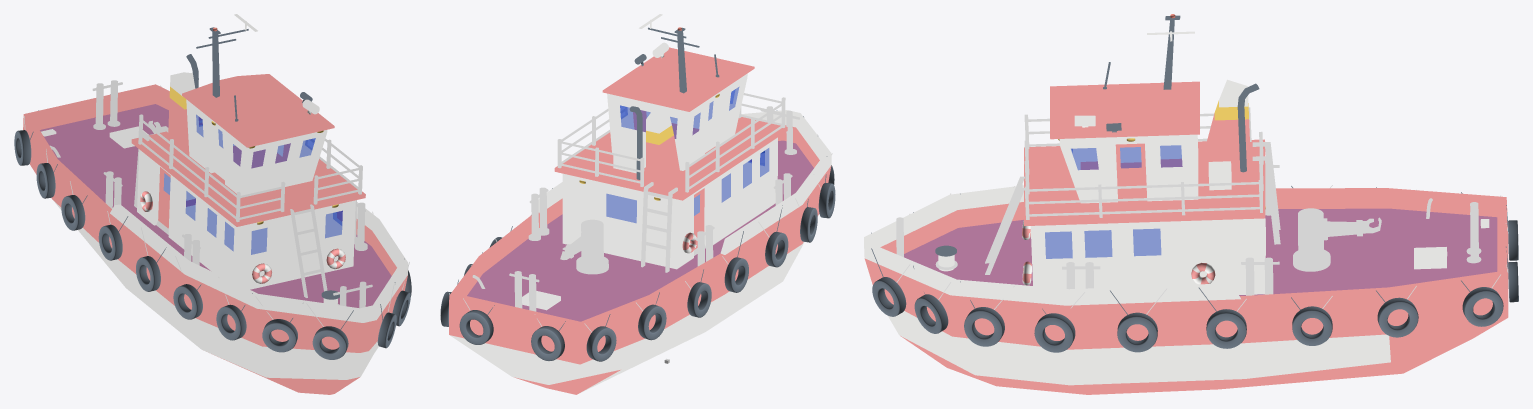
File: LowPolyBoat.fbx
The picture shows the model from 3 angles, left to right: view 1: azimuth 30°, elevation 25°; view 2: azimuth 150°, elevation 25°; view 3: azimuth 270°, elevation 25°; orthographic projection. The views are drawn at different scales.
Parts seen in each view (by area): view 1: Body, Floor:1, Floor:2, Roof, Cube.2_2, Pipe:Big, Tube_9, Tube_10, Tube_11, Tube_12, Tube_13, Tube_16 (+9 smaller); view 2: Body, Floor:1, Floor:2, Roof, Cube.2_2, Pipe:Big, Cylinder.5, Tube_19, Tube_17, Tube_18, Tube_15, Tube_16 (+11 smaller); view 3: Body, Floor:1, Cube.2_2, Floor:2, Roof, Pipe:Big, Cylinder.5, Tube_4, Tube_3, Tube_8, Tube_6, Tube_2 (+11 smaller).
Part boxes in pixels (left/top/right/bottom): Body: left=23, top=84, right=408, bottom=394; Floor:1: left=137, top=149, right=355, bottom=289; Floor:2: left=186, top=99, right=327, bottom=195; Roof: left=182, top=74, right=334, bottom=147; Cube.2_2: left=131, top=123, right=365, bottom=226; Pipe:Big: left=168, top=72, right=199, bottom=153; Tube_9: left=312, top=326, right=348, bottom=359; Tube_10: left=262, top=319, right=297, bottom=352; Tube_11: left=216, top=304, right=246, bottom=340; Tube_12: left=173, top=284, right=202, bottom=319; Tube_13: left=136, top=256, right=160, bottom=291; Tube_16: left=61, top=195, right=85, bottom=230; Body: left=449, top=110, right=831, bottom=394; Floor:1: left=562, top=137, right=777, bottom=269; Floor:2: left=607, top=73, right=747, bottom=170; Roof: left=602, top=47, right=754, bottom=111; Cube.2_2: left=554, top=117, right=787, bottom=200; Pipe:Big: left=646, top=107, right=679, bottom=185; Cylinder.5: left=581, top=219, right=603, bottom=265; Tube_19: left=459, top=310, right=493, bottom=344; Tube_17: left=531, top=326, right=564, bottom=360; Tube_18: left=586, top=326, right=616, bottom=361; Tube_15: left=638, top=304, right=666, bottom=340; Tube_16: left=687, top=282, right=711, bottom=317; Body: left=864, top=185, right=1508, bottom=394; Floor:1: left=1030, top=218, right=1265, bottom=294; Cube.2_2: left=1024, top=139, right=1265, bottom=226; Floor:2: left=1059, top=134, right=1198, bottom=203; Roof: left=1050, top=81, right=1199, bottom=139; Pipe:Big: left=1202, top=79, right=1250, bottom=166; Cylinder.5: left=1298, top=208, right=1323, bottom=261; Tube_4: left=1117, top=312, right=1157, bottom=352; Tube_3: left=1034, top=313, right=1075, bottom=352; Tube_8: left=1462, top=287, right=1503, bottom=326; Tube_6: left=1377, top=297, right=1418, bottom=337; Tube_2: left=964, top=307, right=1004, bottom=346.
Bounding box in the file's own units: 13984 × 19948 × 32627.
